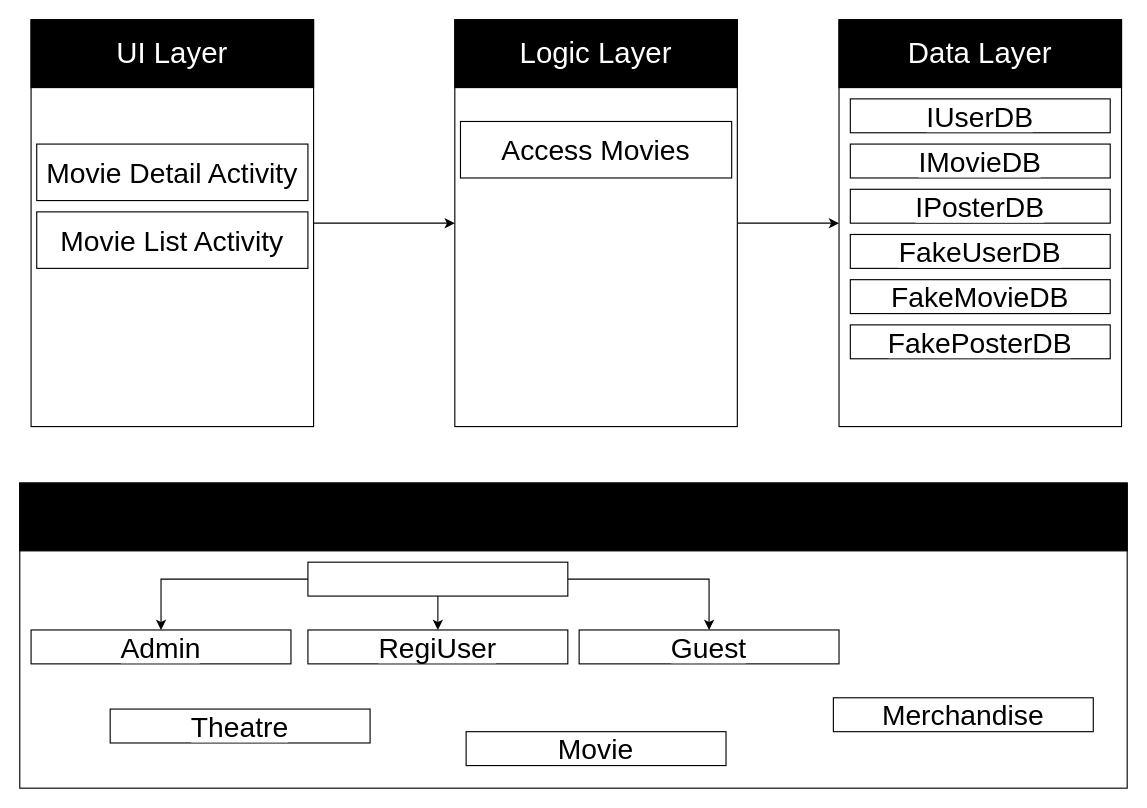
This 1147x808 diagram has some shape labels left out. Each missing label, with the centre of its shape:
Domain Specific Objects: point 573,516
User: point 437,578
